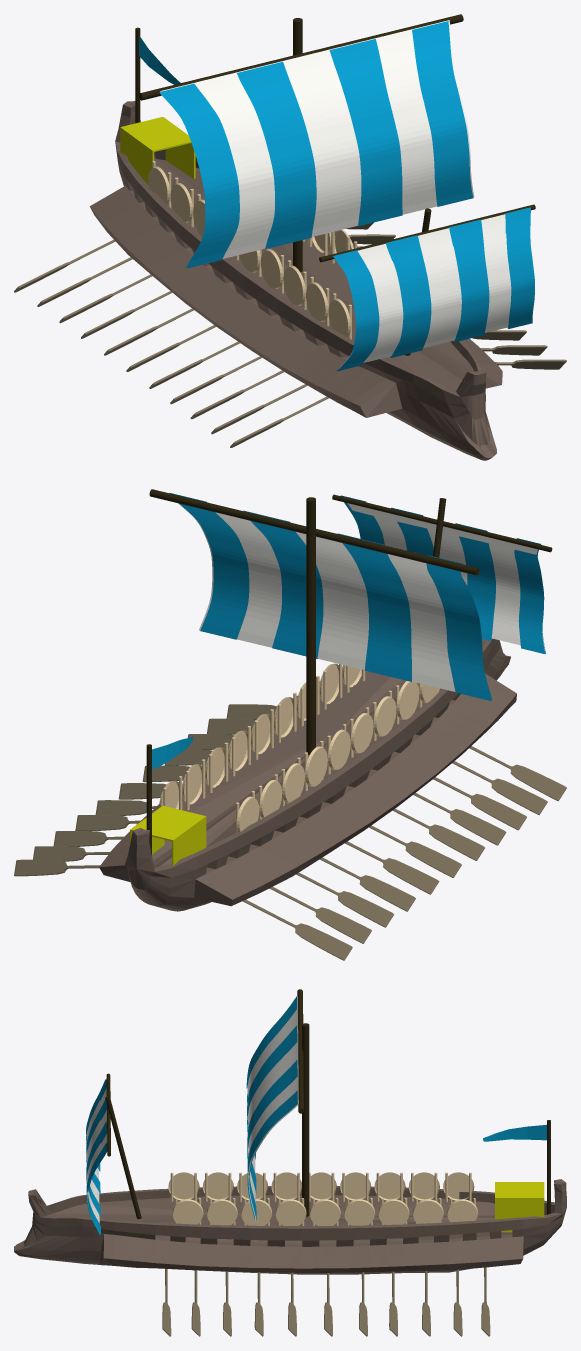
The model's file is Trireme.dae.
3 renders of one model, top to bottom at view 1: azimuth 30°, elevation 25°; view 2: azimuth 150°, elevation 25°; view 3: azimuth 270°, elevation 25°, orthographic. The views are drawn at different scales.
Visible parts, largest first — view 1: body, sail_big_002, sail_big, sail_big_003, sail_big_001, Circle_001, Plane, beam, Circle, beam_001, mast, ore_009 (+2 smaller); view 2: body, sail_big_004, sail_big, Circle_001, Circle, sail_big_005, sail_big_001, beam, mast, Plane, beam_001, ore_021 (+21 smaller); view 3: body, Circle_001, Circle, sail_big_002, sail_big, Plane, mast, sail_big_003, sail_big_001, flag, mast_001, beam (+1 smaller).
Boxes of the visible parts, bbox=[...] form: body: bbox=[90, 101, 502, 460]; sail_big_002: bbox=[159, 21, 473, 268]; sail_big: bbox=[160, 20, 474, 258]; sail_big_003: bbox=[333, 208, 534, 371]; sail_big_001: bbox=[338, 214, 511, 369]; Circle_001: bbox=[148, 161, 351, 339]; Plane: bbox=[120, 117, 195, 184]; beam: bbox=[139, 14, 463, 100]; Circle: bbox=[302, 230, 363, 263]; beam_001: bbox=[319, 204, 535, 262]; mast: bbox=[293, 18, 302, 272]; ore_009: bbox=[495, 359, 566, 369]; body: bbox=[99, 638, 516, 911]; sail_big_004: bbox=[179, 503, 491, 700]; sail_big: bbox=[178, 503, 455, 691]; Circle_001: bbox=[236, 681, 439, 832]; Circle: bbox=[159, 663, 365, 810]; sail_big_005: bbox=[340, 496, 545, 653]; sail_big_001: bbox=[347, 503, 545, 650]; beam: bbox=[149, 489, 479, 575]; mast: bbox=[306, 497, 315, 754]; Plane: bbox=[130, 805, 206, 865]; beam_001: bbox=[332, 494, 552, 552]; ore_021: bbox=[242, 899, 352, 960]; body: bbox=[14, 1179, 566, 1274]; Circle_001: bbox=[168, 1172, 474, 1201]; Circle: bbox=[172, 1198, 478, 1225]; sail_big_002: bbox=[246, 996, 297, 1220]; sail_big: bbox=[248, 997, 298, 1220]; Plane: bbox=[495, 1182, 544, 1232]; mast: bbox=[302, 1023, 309, 1216]; sail_big_003: bbox=[86, 1079, 106, 1234]; sail_big_001: bbox=[86, 1088, 107, 1223]; flag: bbox=[483, 1124, 546, 1141]; mast_001: bbox=[105, 1096, 141, 1219]; beam: bbox=[297, 989, 303, 1113].
Bounding box in the file's own units: 1.9 × 3.56 × 1.76.
